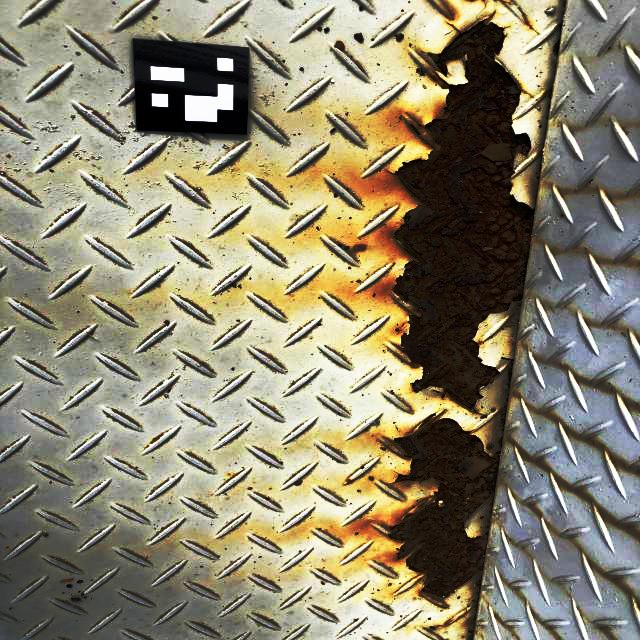Corrosion: (392, 22, 533, 410), (385, 417, 498, 600)
